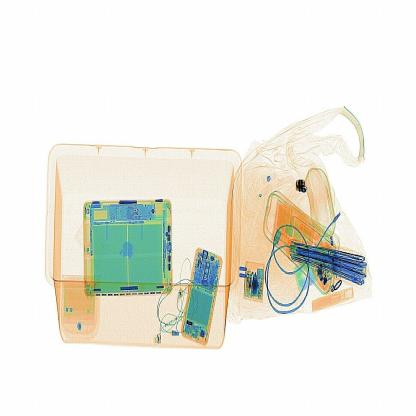scissors: (292, 176, 308, 198)
